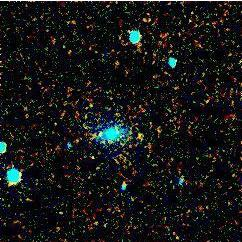star: (84, 118, 114, 148)
